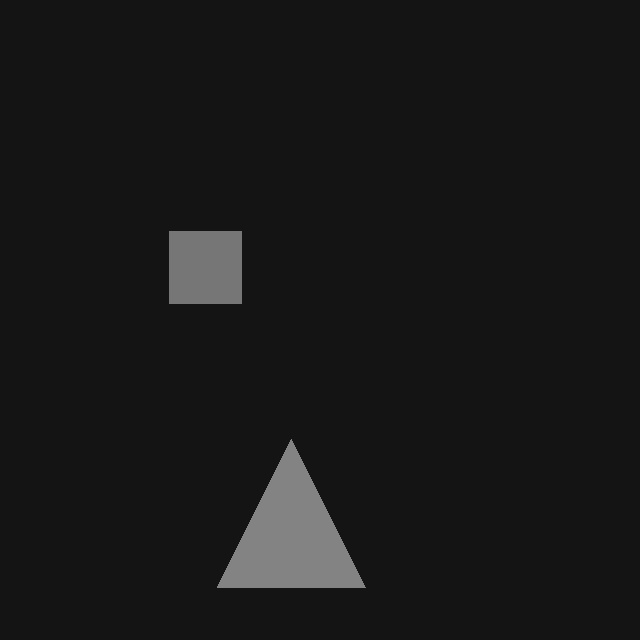square: (169, 231, 241, 303)
triangle: (217, 439, 365, 587)
